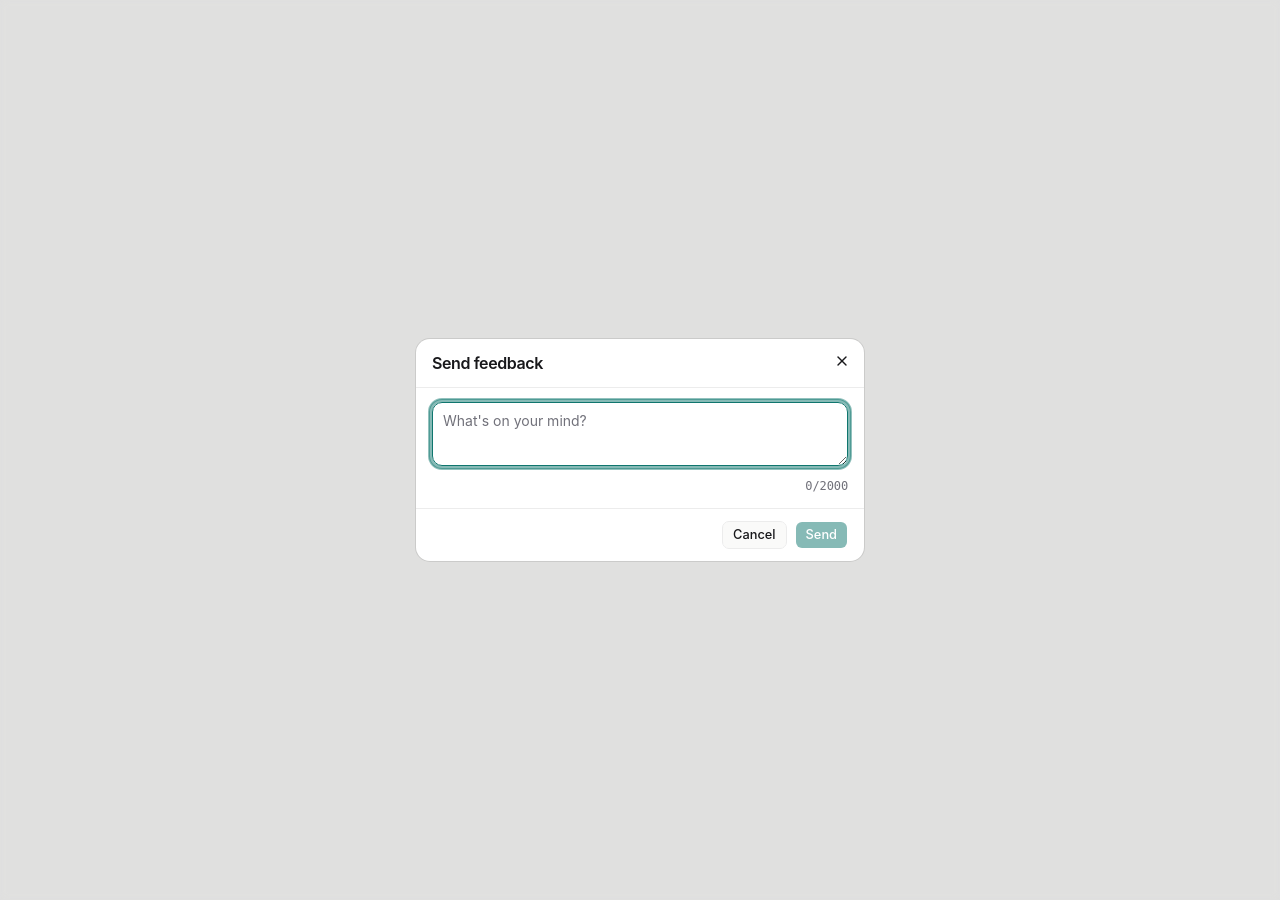
Test: FeedbackModal › shows inline error and keeps modal open on failure
This screenshot has width=1280, height=900.
Type "great app" into the text box named "Feedback".
click(640, 434); type("great app")  # box x1=432 y1=402 x2=848 y2=466
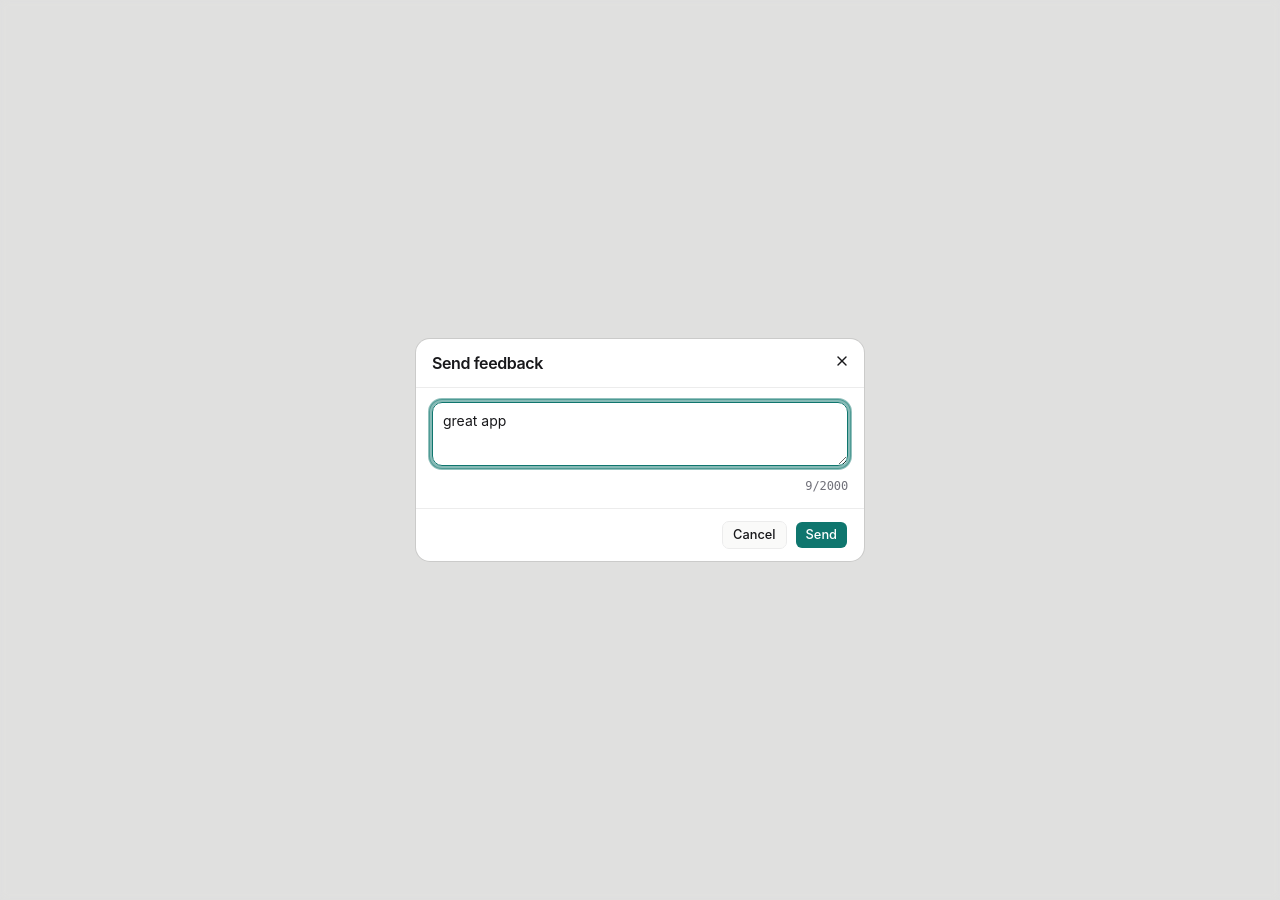
Click the button "Send".
click(821, 535)  # box x1=795 y1=521 x2=848 y2=549
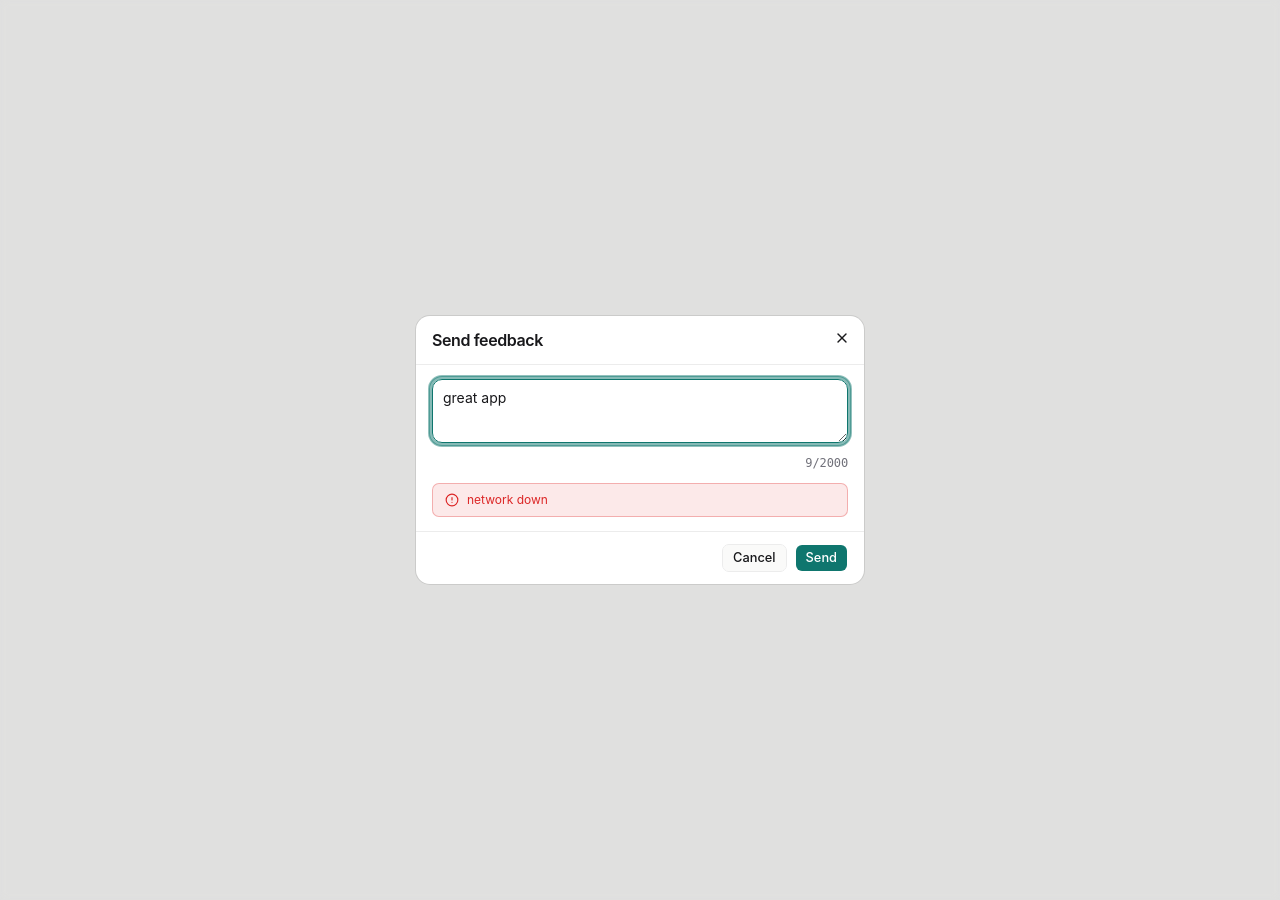
Result: the message reads "network down" at x1=467 y1=492 x2=548 y2=507
